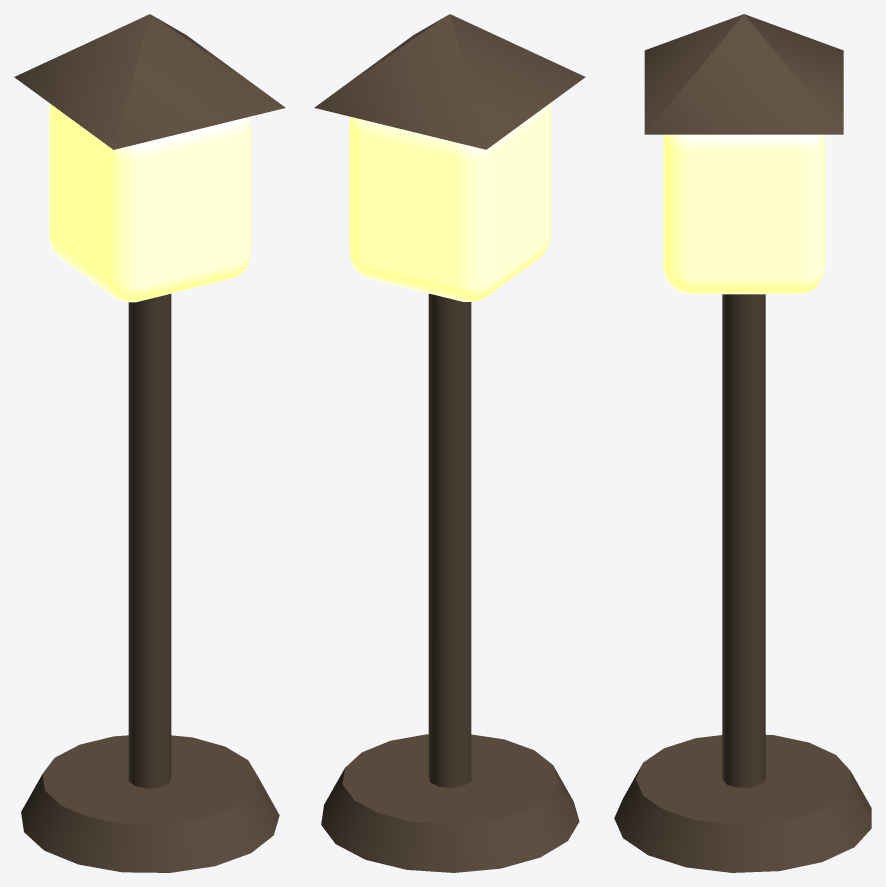
The model's file is lantern.glb.
3 views of the same model, side by side, from view 1: azimuth 30°, elevation 25°; view 2: azimuth 150°, elevation 25°; view 3: azimuth 270°, elevation 25° (orthographic).
Bounding box in the file's own units: 0.478 × 1.64 × 0.4759.
